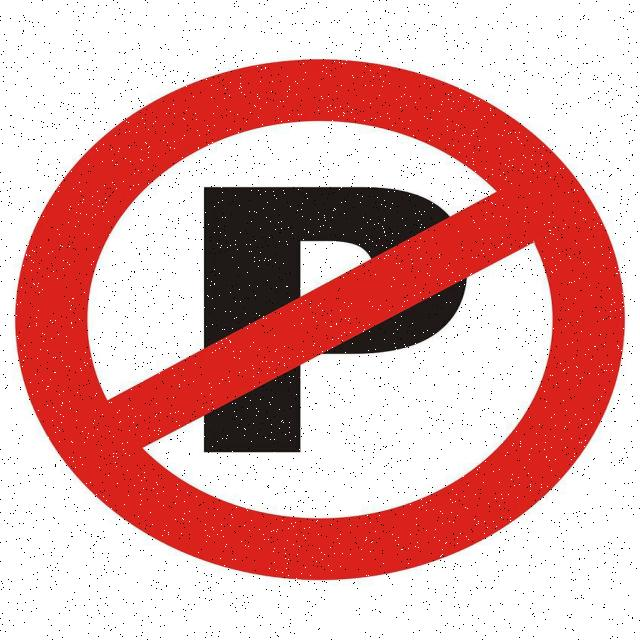No_parking: (11, 59, 626, 568)
